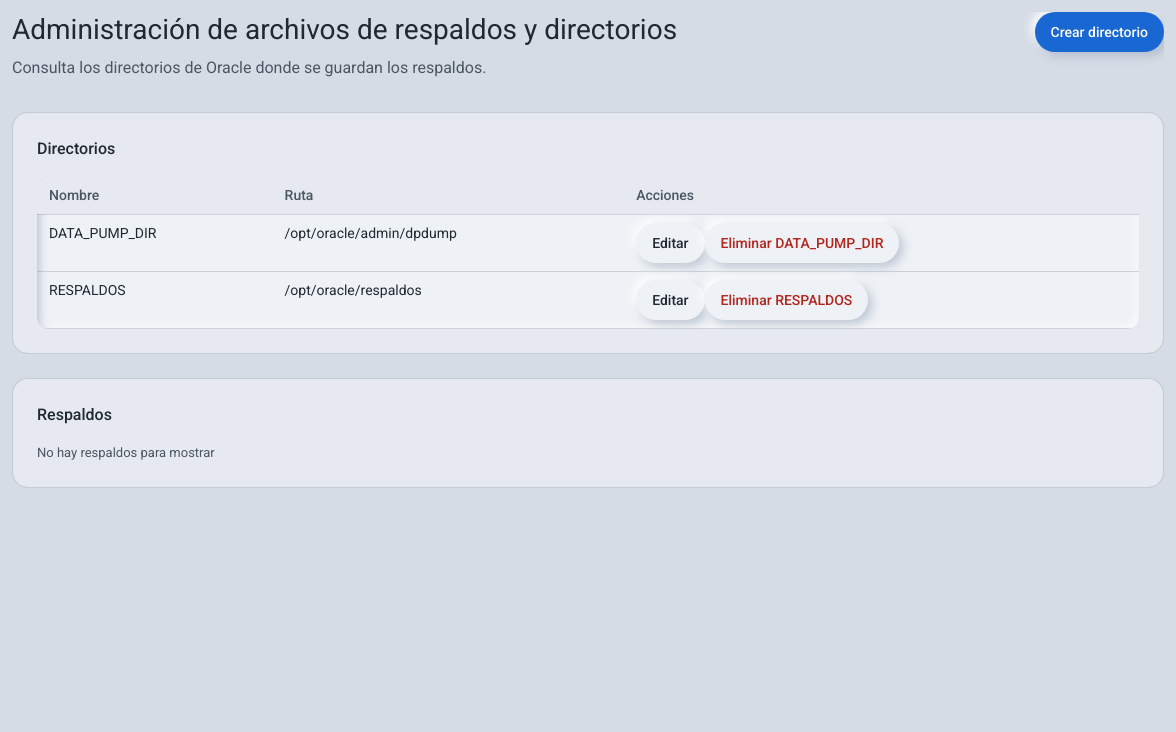
Scenario: crear directorio › ante 422 muestra los errores y no recarga la lista
Expected: the text "RESPALDOS" is shown, [37,272,273,328]
Click the button "Crear directorio" at (1099, 32), box [1035,12,1164,52]
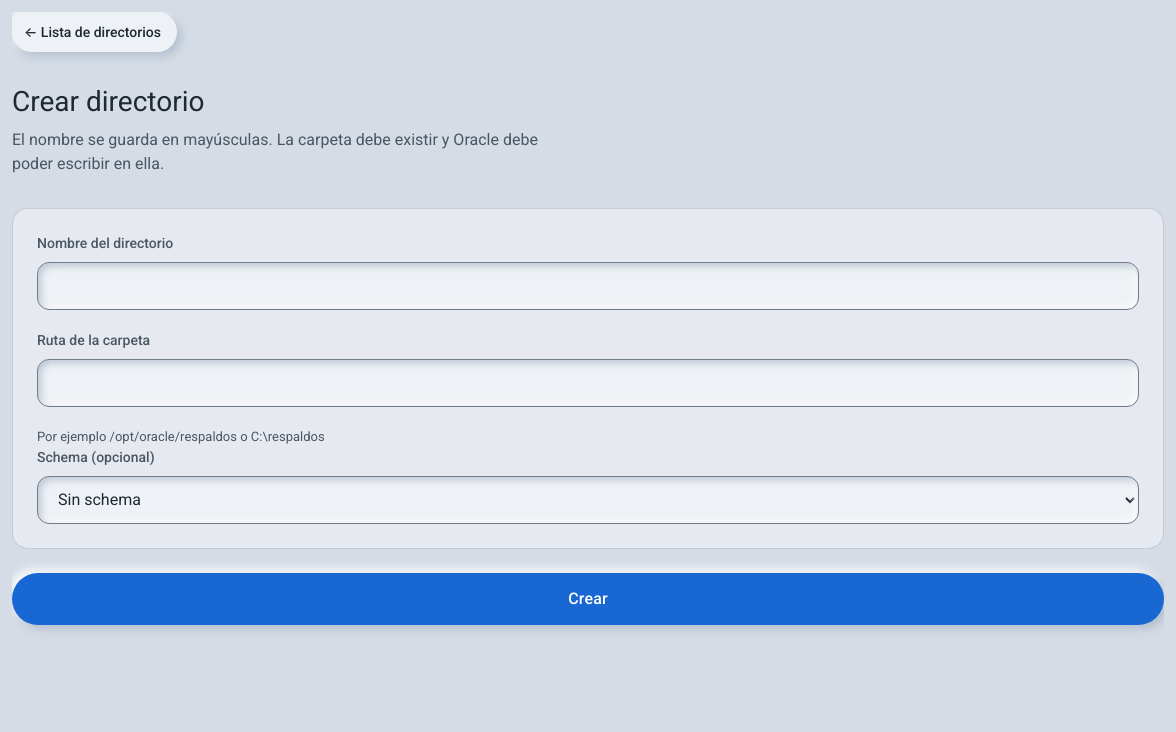
Type "nuevo" into the field labelled "Nombre del directorio" at (588, 286), box [37,262,1139,310]
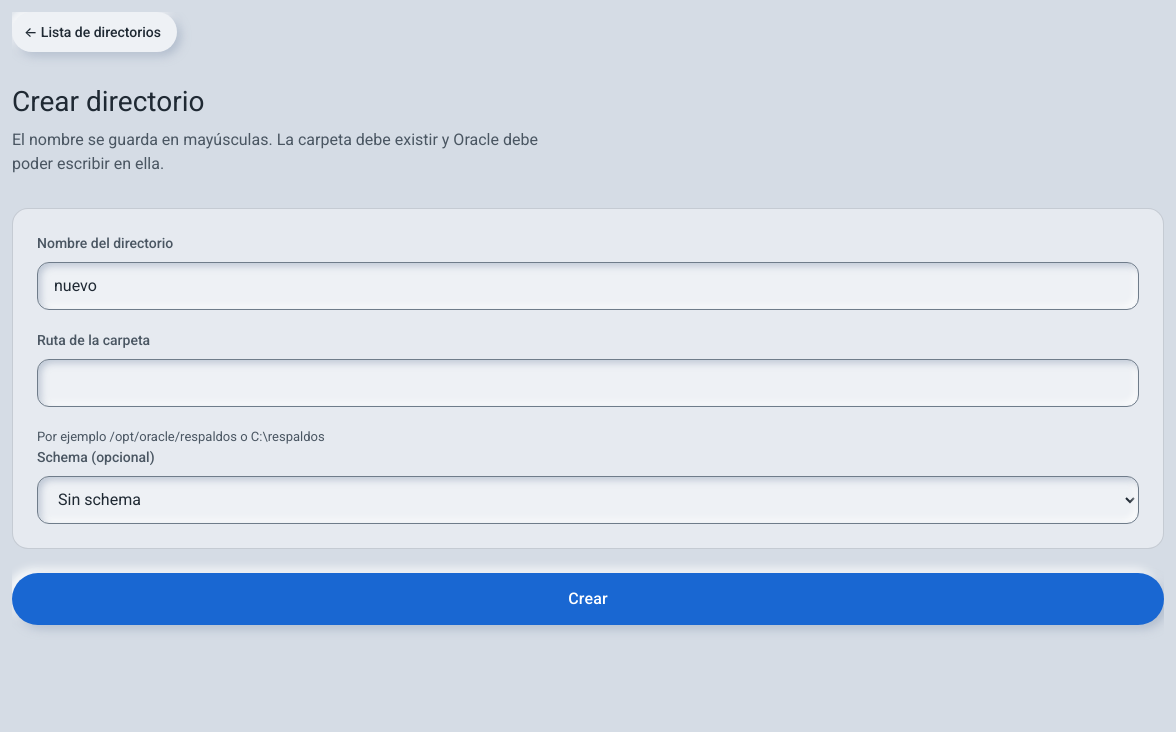
Type "/opt/oracle/nuevo" into the field labelled "Ruta de la carpeta" at (588, 383), box [37,359,1139,407]
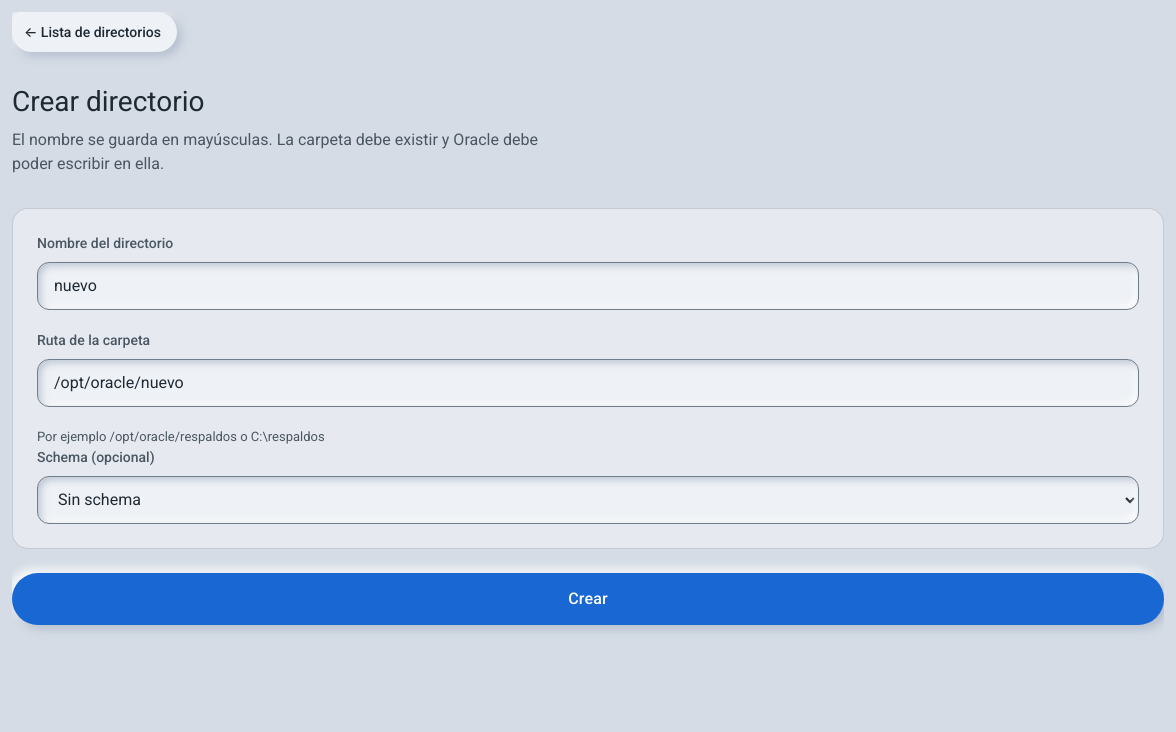
Click the button "Crear" at (588, 598), box [12,572,1164,624]
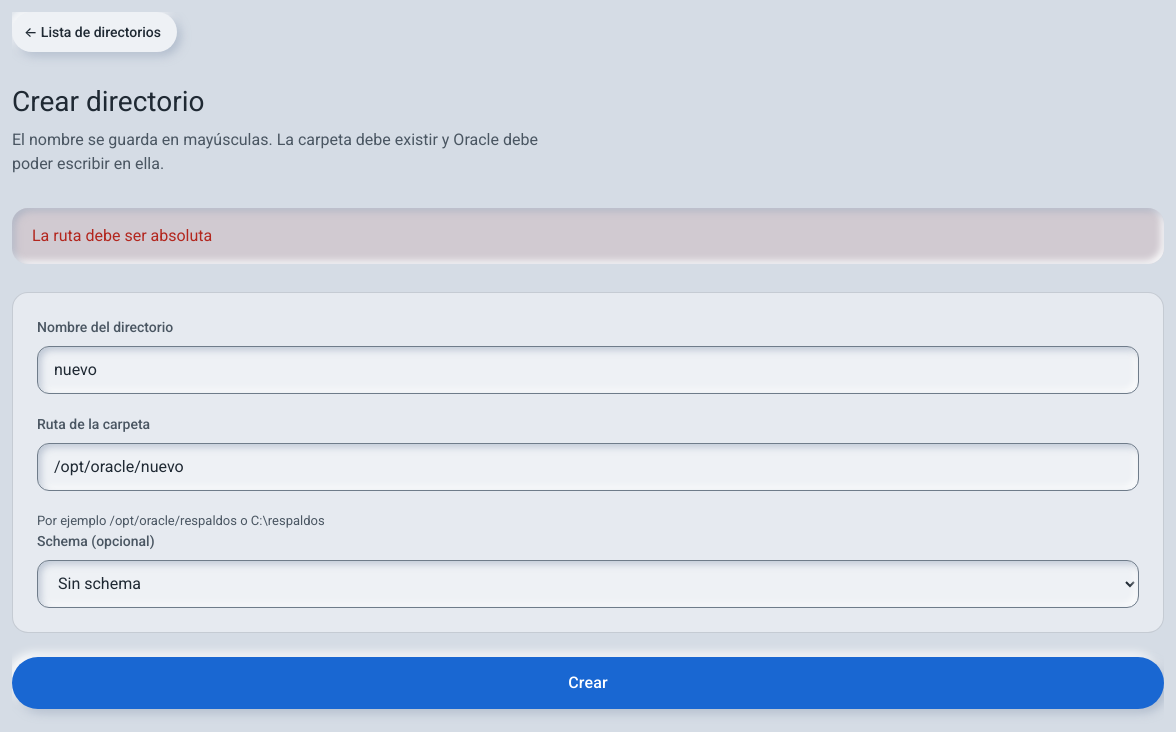
Expected: the message reads "La ruta debe ser absoluta", [32,226,212,245]
